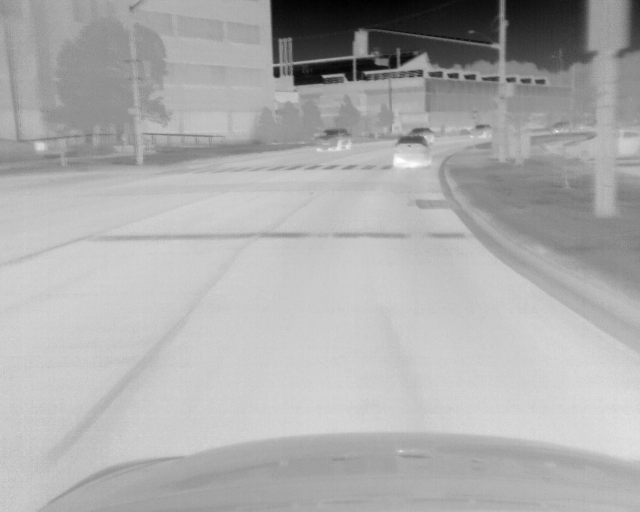car: (549, 130, 640, 159), (390, 137, 430, 168), (313, 128, 350, 154), (409, 126, 435, 144), (469, 124, 492, 140)
